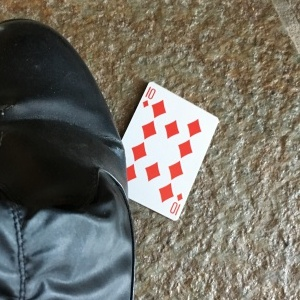card: (115, 80, 219, 220)
